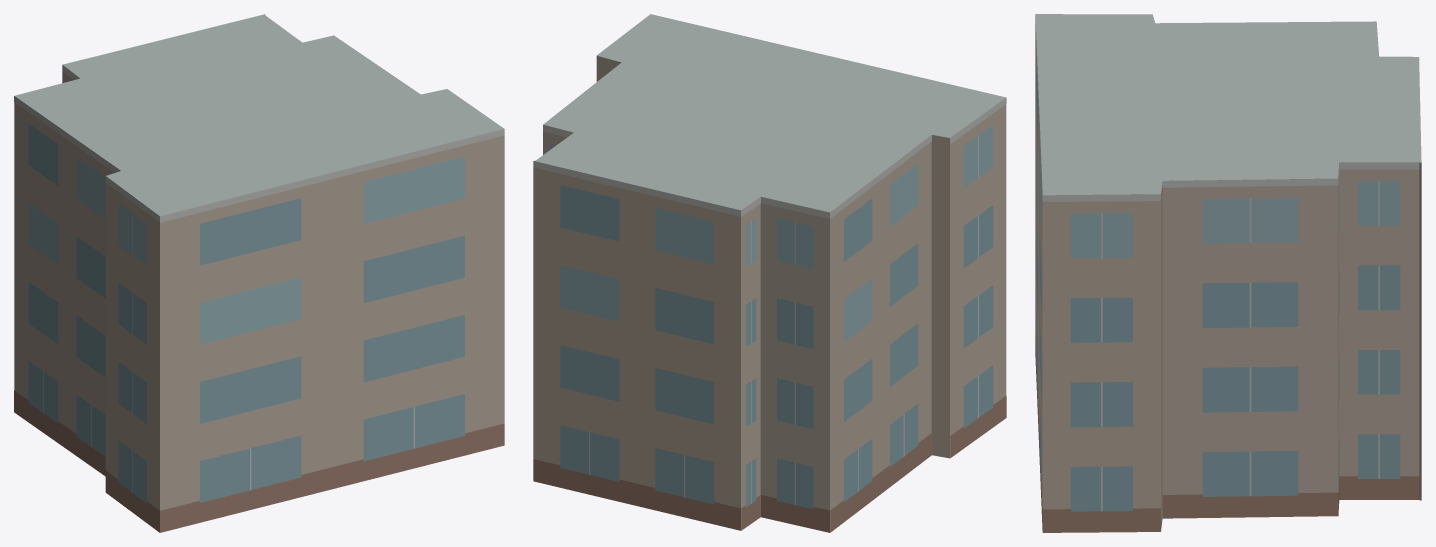
The model's file is survey-upis-32621595.glb.
The picture shows the model from 3 angles, left to right: view 1: azimuth 30°, elevation 25°; view 2: azimuth 150°, elevation 25°; view 3: azimuth 270°, elevation 25°; orthographic projection. The views are drawn at different scales.
Parts seen in each view (by area): view 1: survey-upis-32621595.tmp; view 2: survey-upis-32621595.tmp; view 3: survey-upis-32621595.tmp.
Boxes of the visible parts, x1,y1,x2,y2 form: survey-upis-32621595.tmp: (14,14,504,532); survey-upis-32621595.tmp: (533,14,1006,532); survey-upis-32621595.tmp: (1035,14,1421,532).
Size of the model in its own units: 13.82 by 12 by 12.45.
